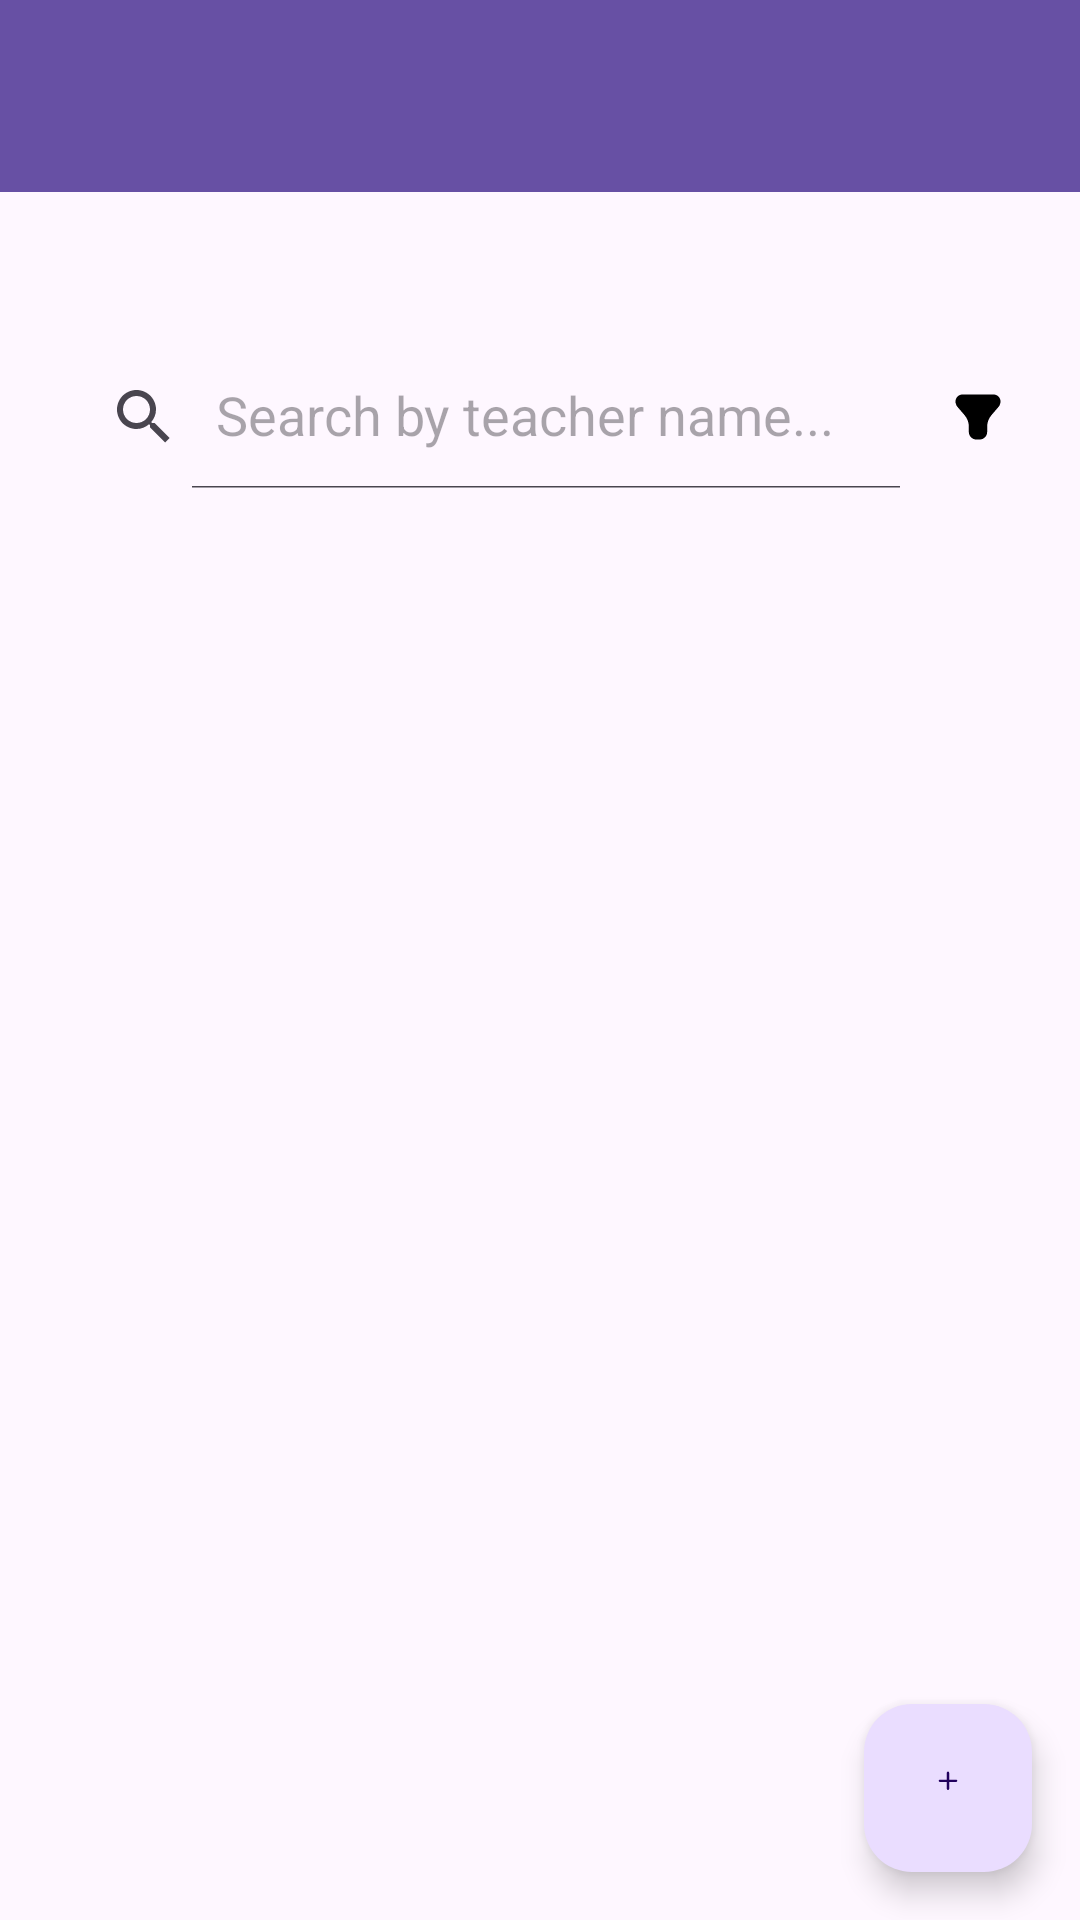

Point at icon controls on the screen. Image size 1080w x 1920h, points as (x=x, y=y).
Add new yoga class: (x=948, y=1788)
Advanced Search: (x=978, y=417)
